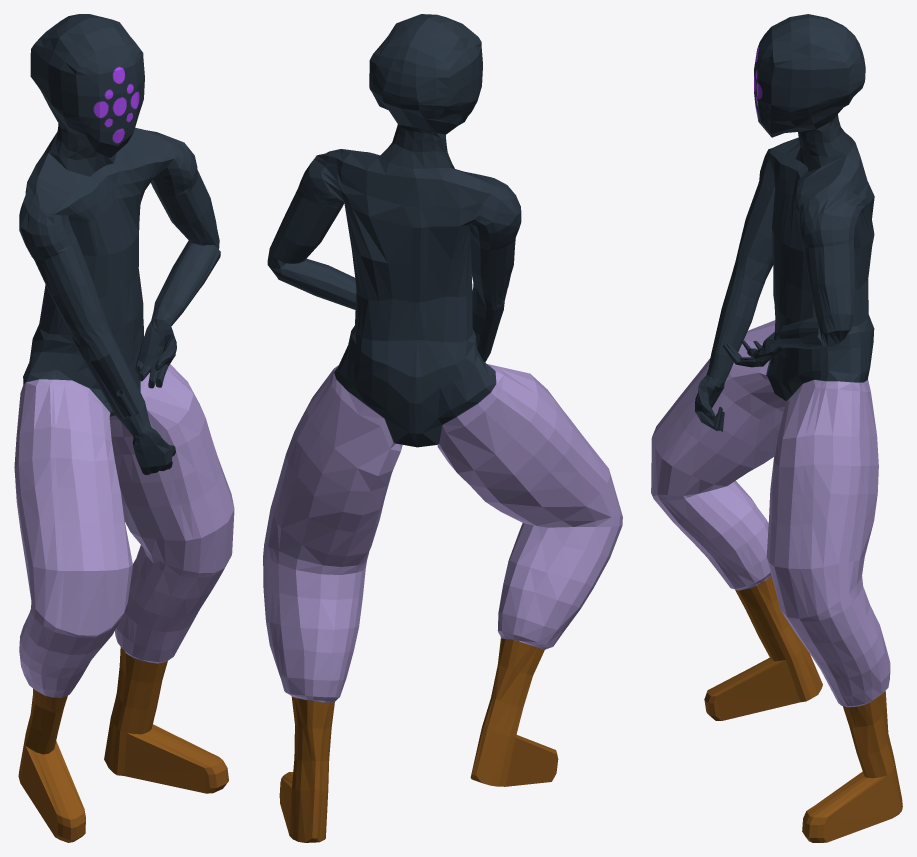
File: Oracle_WL_000020.obj
The picture shows the model from 3 angles, left to right: view 1: azimuth 30°, elevation 25°; view 2: azimuth 150°, elevation 25°; view 3: azimuth 270°, elevation 25°; orthographic projection. The views are drawn at different scales.
Visible parts, largest first — view 1: Cube; view 2: Cube; view 3: Cube.
Boxes of the visible parts, box(x1,y1,x2,y2) form: Cube: box(14, 14, 234, 842); Cube: box(263, 14, 622, 842); Cube: box(651, 14, 902, 842).
Bounding box in the file's own units: 1.35 × 3.82 × 1.14.
